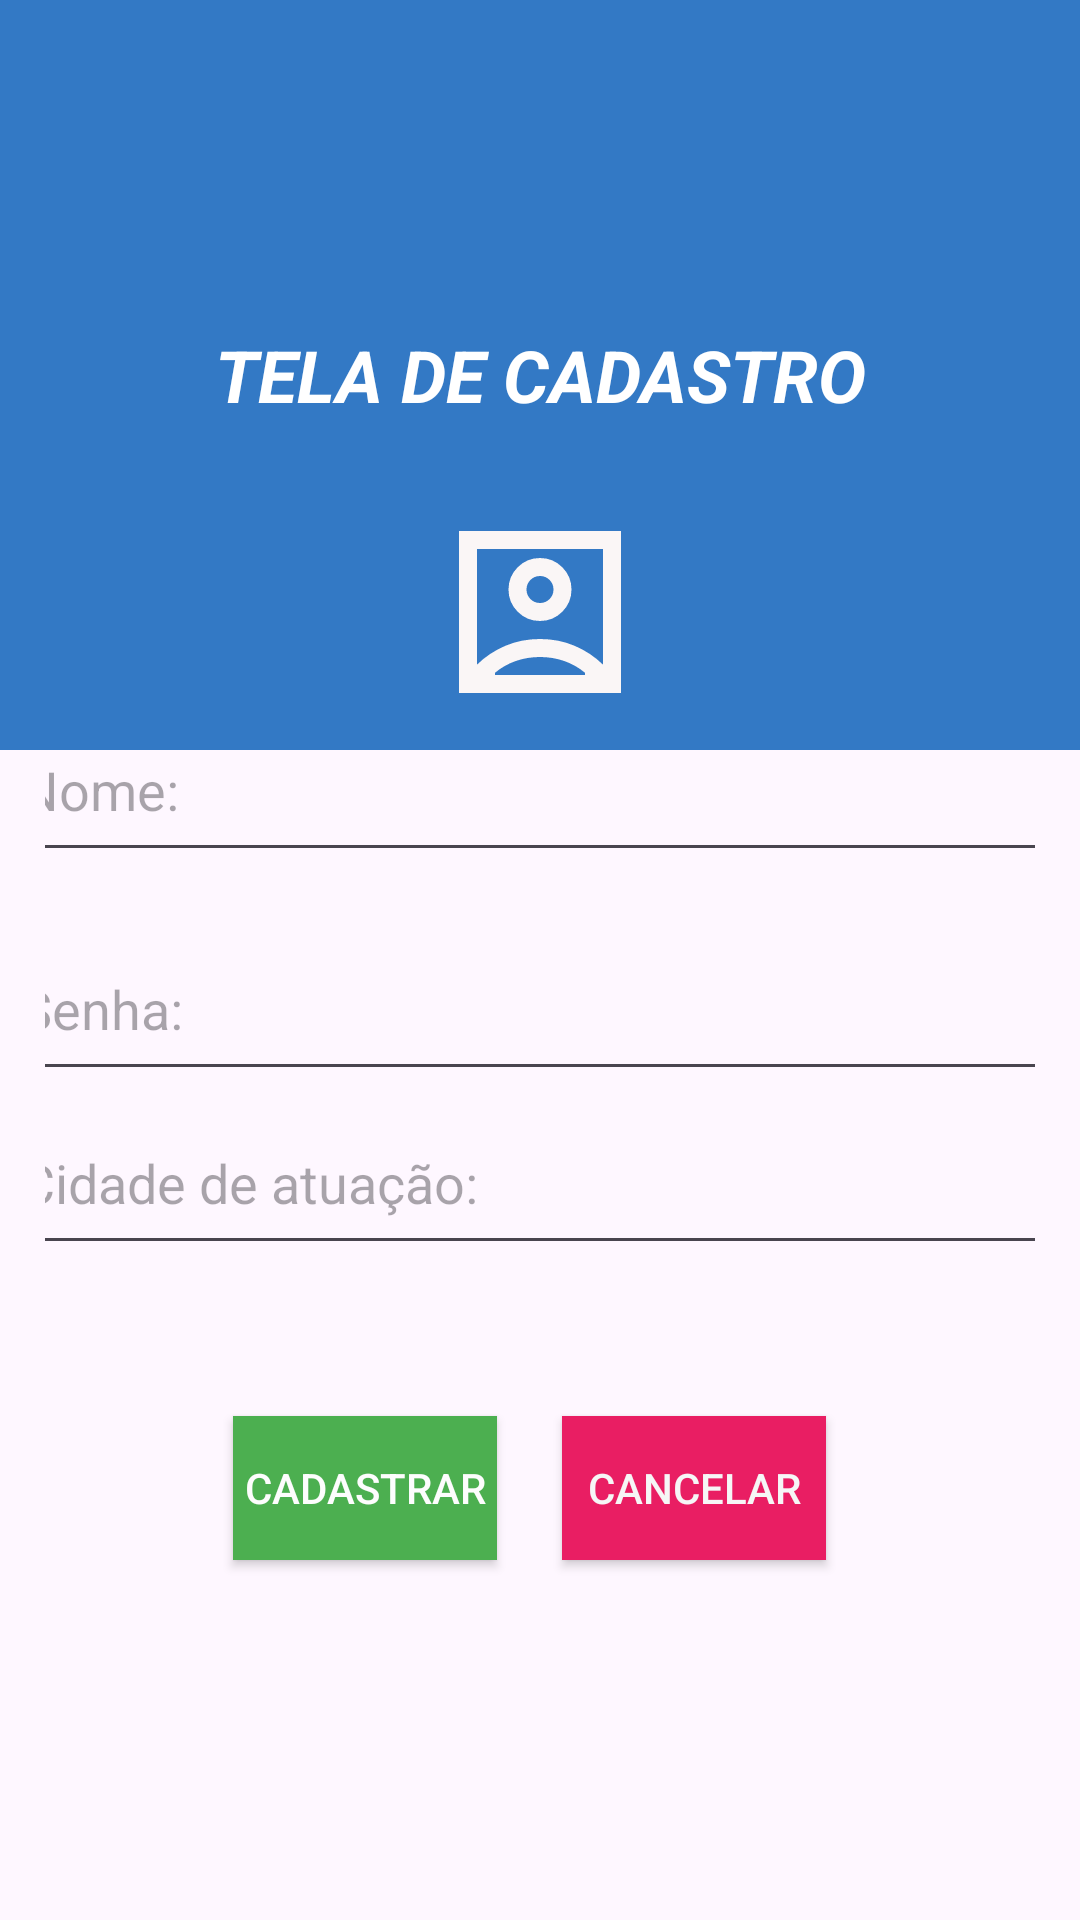

Where to tap for icons on this 1080 x 1920 app screen, as (x,y):
account box: (540,612)
